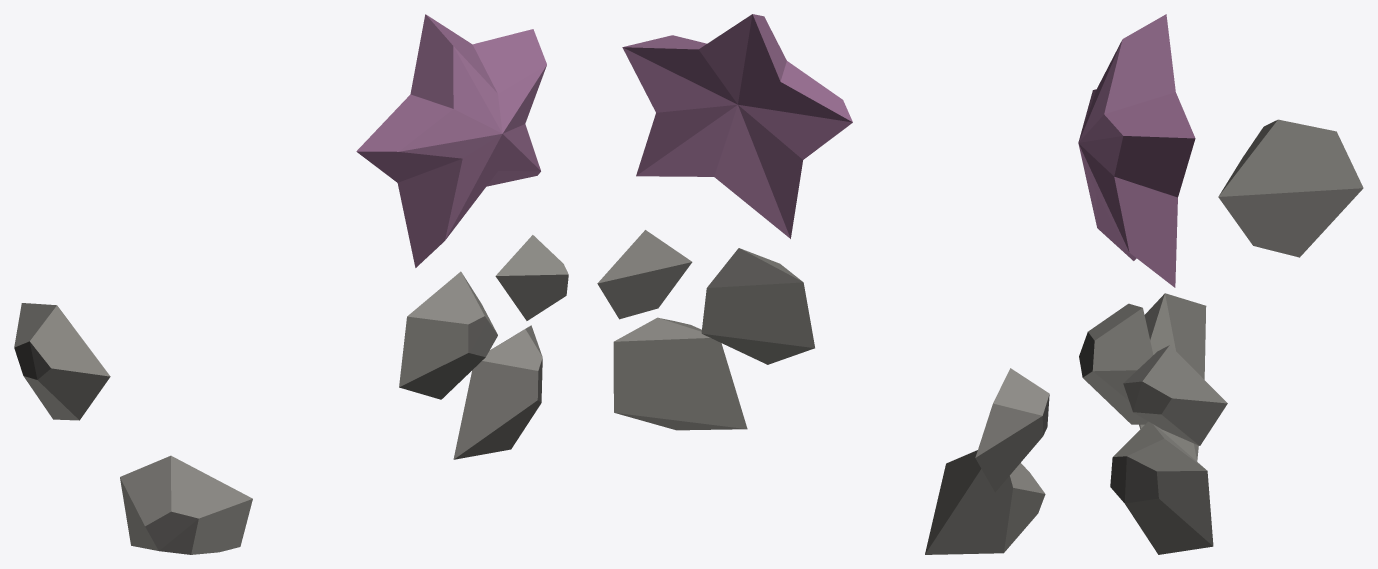
The model's file is SM_Chr_Attach_Barnacles_01.fbx.
The picture shows the model from 3 angles, left to right: view 1: azimuth 30°, elevation 25°; view 2: azimuth 150°, elevation 25°; view 3: azimuth 270°, elevation 25°; orthographic projection. The views are drawn at different scales.
Visible parts, largest first — view 1: SM_Chr_Attach_Barnacles_01; view 2: SM_Chr_Attach_Barnacles_01; view 3: SM_Chr_Attach_Barnacles_01.
Boxes of the visible parts, left/top/right/bottom form: SM_Chr_Attach_Barnacles_01: left=14, top=14, right=568, bottom=554; SM_Chr_Attach_Barnacles_01: left=597, top=14, right=1049, bottom=554; SM_Chr_Attach_Barnacles_01: left=1078, top=14, right=1363, bottom=554.
Size of the model in its own units: 20.2 by 19.85 by 9.33.
